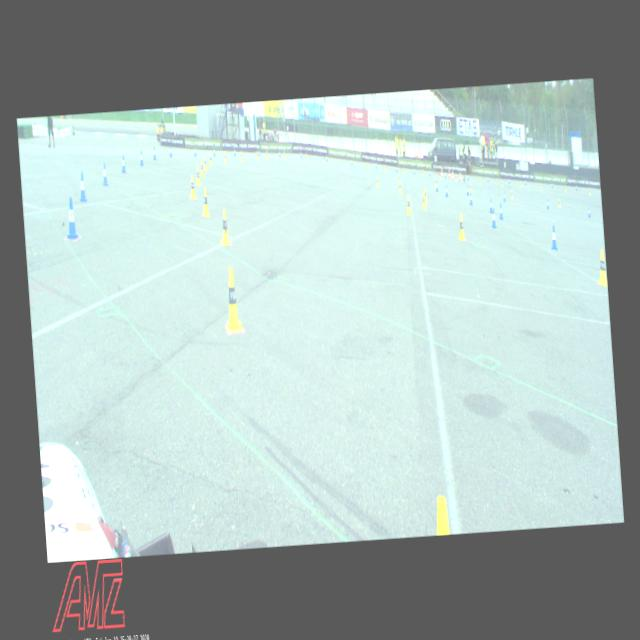blue_cone: (64, 196, 80, 240), (77, 172, 87, 202), (549, 223, 557, 250), (101, 162, 109, 186), (490, 206, 496, 228), (120, 155, 126, 173), (138, 150, 144, 166), (498, 202, 503, 220), (488, 198, 493, 213), (468, 190, 472, 204), (152, 146, 156, 159), (444, 184, 448, 197), (434, 180, 438, 192), (586, 206, 590, 217), (502, 192, 506, 202), (546, 198, 549, 210), (169, 145, 172, 157), (212, 146, 215, 156), (466, 186, 469, 196), (232, 147, 235, 156), (194, 145, 196, 156), (278, 149, 280, 157), (258, 148, 260, 156)
large_orange_cone: (458, 170, 462, 182), (447, 166, 450, 178), (451, 169, 454, 180)
yellow_cone: (222, 266, 243, 332), (595, 249, 607, 287), (218, 208, 230, 245), (200, 186, 210, 216), (456, 212, 464, 240), (188, 174, 197, 198), (404, 194, 410, 215), (194, 166, 200, 185), (421, 191, 426, 209), (199, 158, 204, 176), (202, 154, 206, 170), (423, 187, 427, 202), (208, 152, 212, 166), (398, 179, 402, 193), (432, 176, 436, 186), (282, 150, 286, 159), (240, 150, 243, 162), (255, 150, 258, 161), (438, 171, 442, 179), (469, 182, 472, 192), (265, 150, 268, 160), (224, 150, 226, 163), (376, 175, 378, 187), (500, 179, 503, 187), (398, 172, 400, 183), (558, 197, 560, 207), (510, 189, 512, 198), (455, 173, 457, 180)
